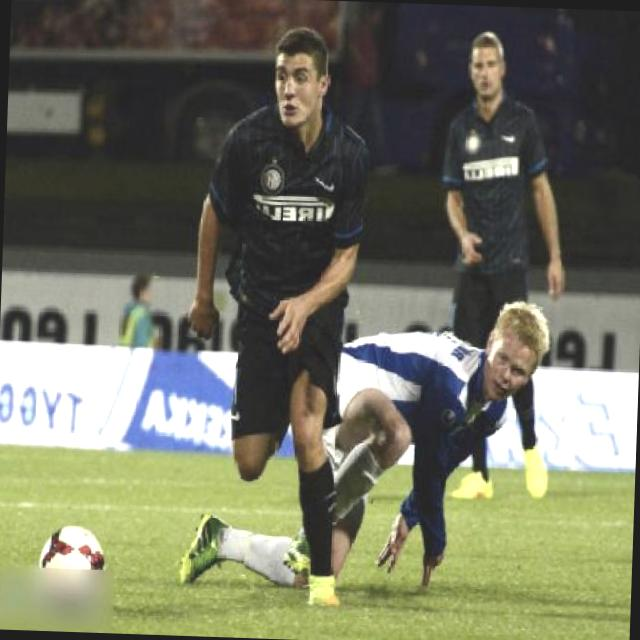Person: (185, 18, 396, 588)
